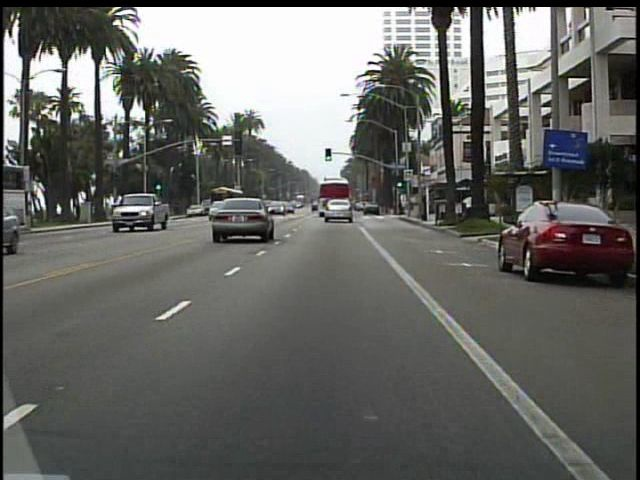person: (460, 191, 476, 222)
